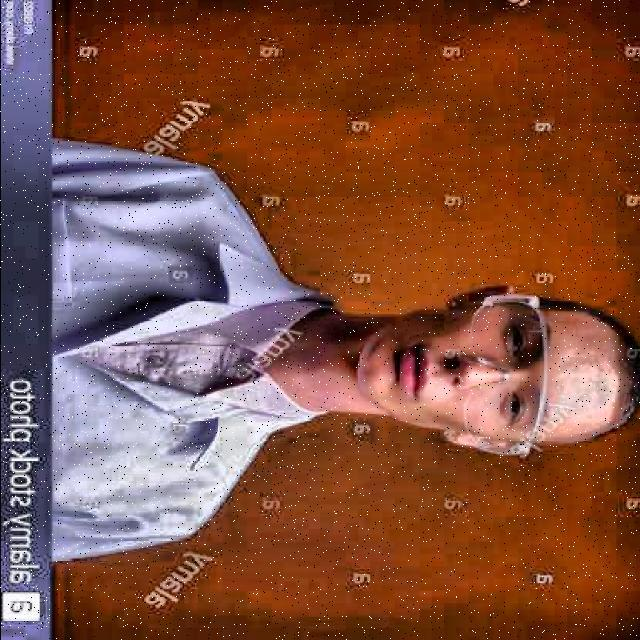Goggles: (449, 283, 560, 462)
